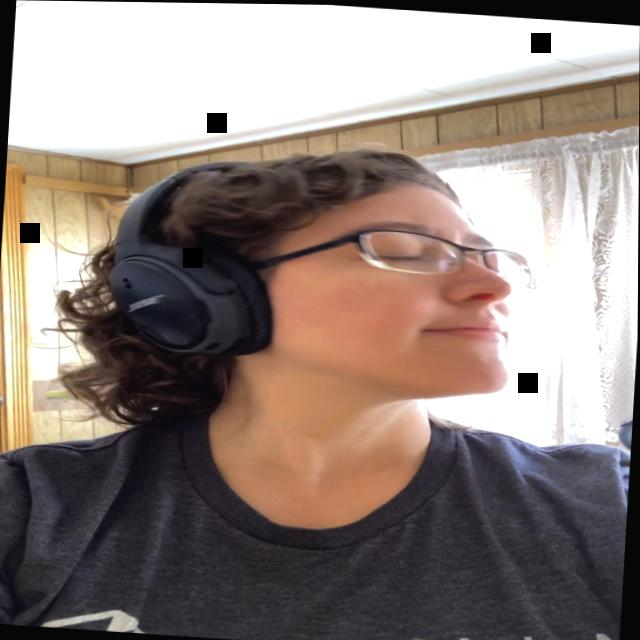NO-Mask: (256, 175, 523, 399)
